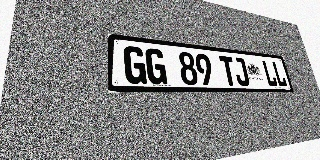8: (178, 51, 199, 85)
9: (194, 53, 214, 85)
G: (123, 45, 147, 84), (145, 48, 167, 85)
J: (232, 57, 250, 86)
L: (261, 60, 278, 86), (271, 61, 288, 87)
T: (219, 56, 238, 86)
